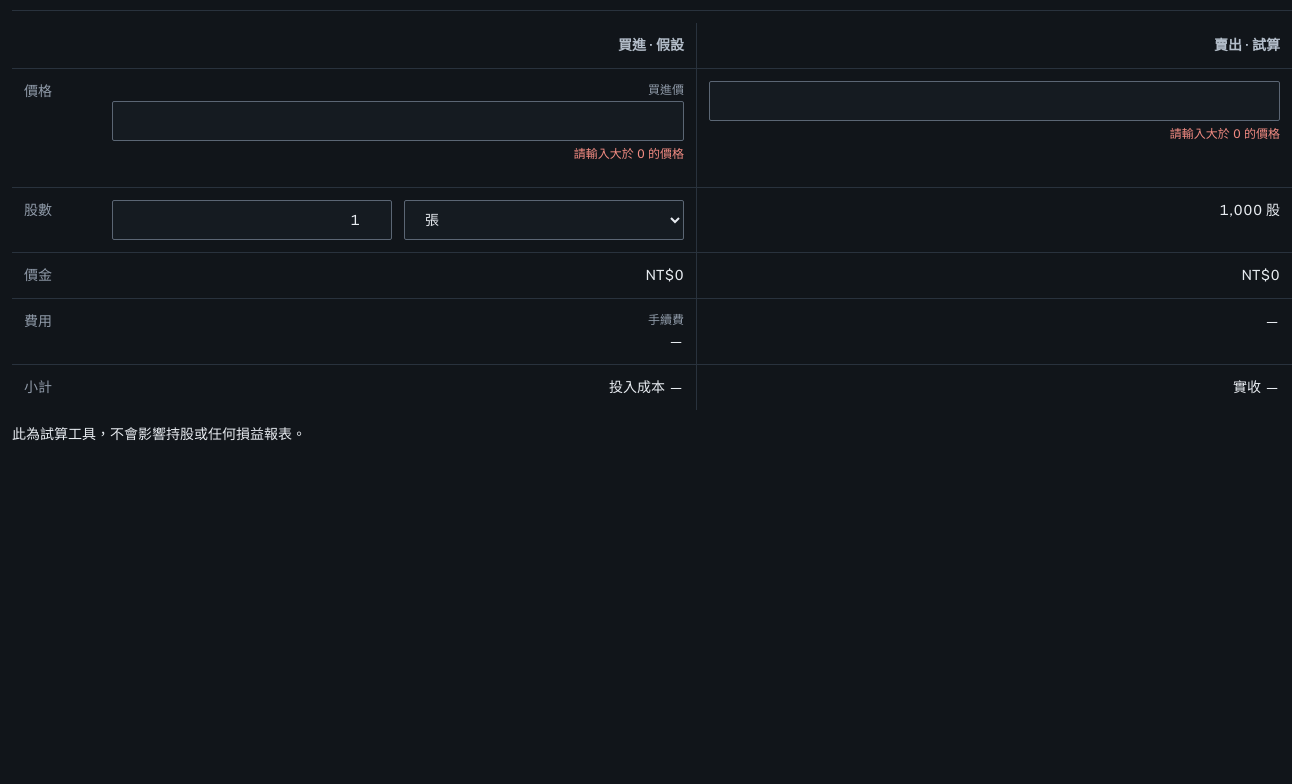
Test: WhatIfTab 預設值：庫存股用平均成本，觀察股用現價 › 沒有現價時輸入都可填，填完就算得出來，過程不出現 NaN
This screenshot has width=1292, height=784.
Expected: the number field named "賣出價格" is empty, [709,81,1280,121]
Type "100" into the number field named "買進價格" at (398, 121), box [112,101,684,141]
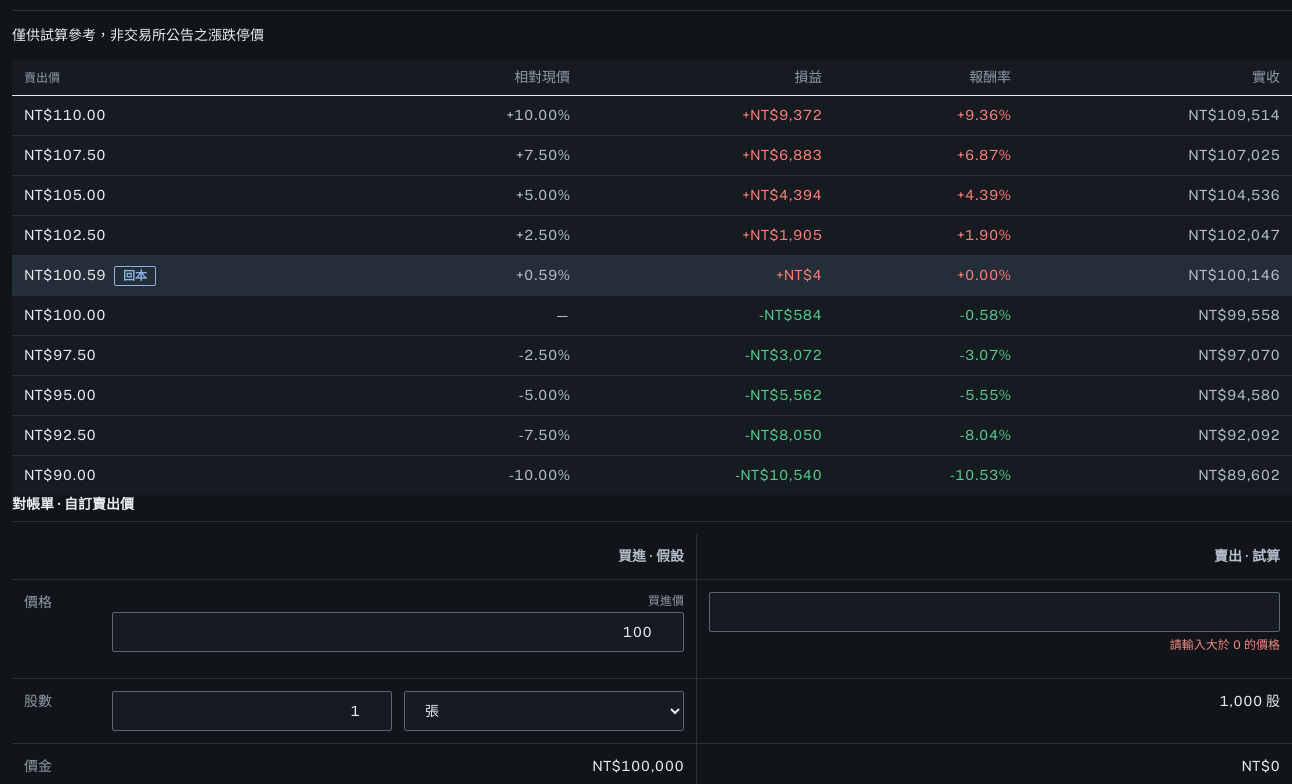
Type "110" into the number field named "賣出價格" at (994, 612), box [709,592,1280,632]
(page scrolled)
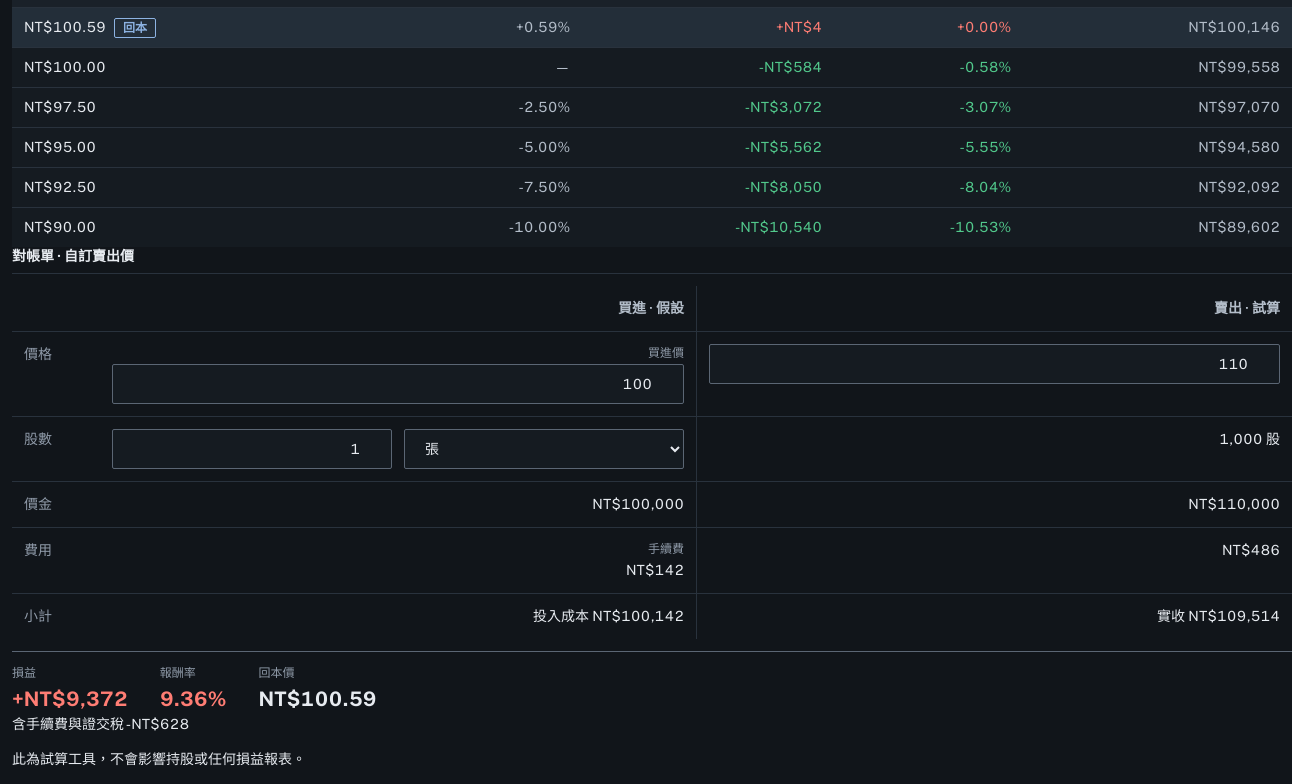
Result: the text with test id "whatif-pnl" shows "+" at [12,684,128,714]
